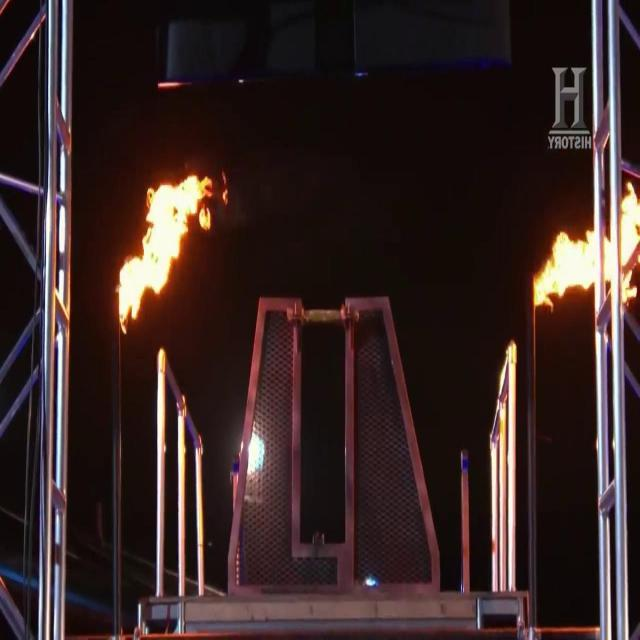Fire: (117, 176, 231, 328), (533, 180, 640, 309)
